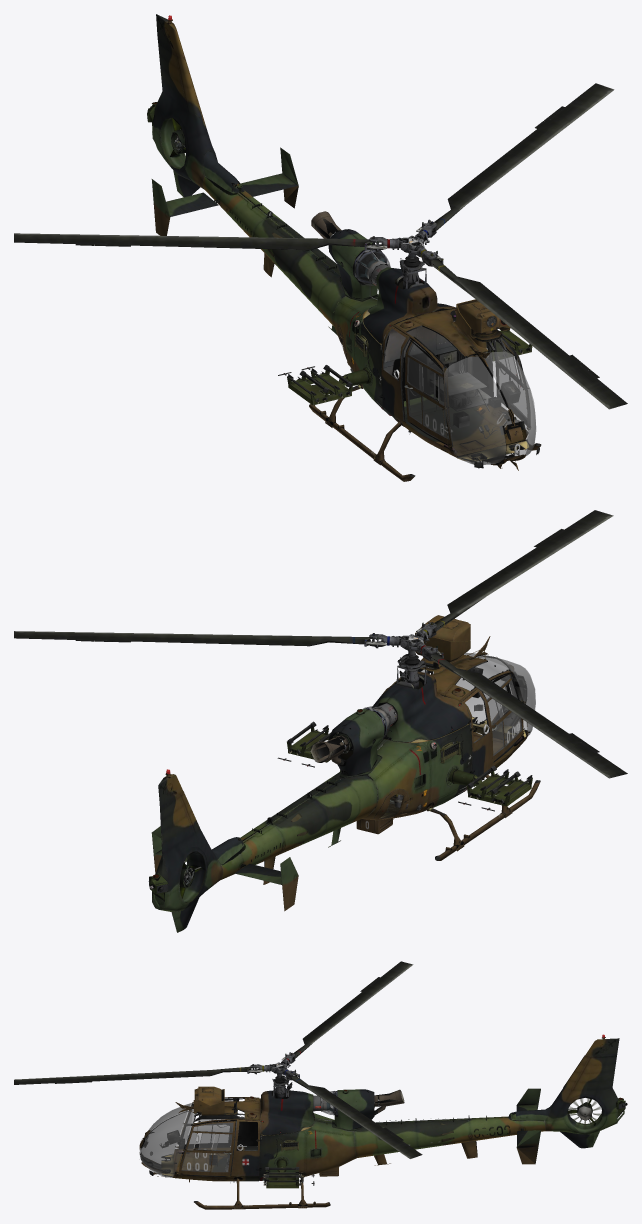
File: gazelle.glb
3 views of the same model, one above another, from view 1: azimuth 30°, elevation 25°; view 2: azimuth 150°, elevation 25°; view 3: azimuth 270°, elevation 25° (orthographic). The views are drawn at different scales.
Visible parts, largest first — view 1: Object_87, Object_38, Object_55, Object_25, Object_94, Object_20, Object_23, Object_58, Object_72, Object_97, Object_10, Object_33 (+6 smaller); view 2: Object_87, Object_38, Object_25, Object_23, Object_55, Object_20, Object_97, Object_58, Object_94, Object_67, Object_82, Object_84 (+4 smaller); view 3: Object_87, Object_38, Object_55, Object_23, Object_25, Object_20, Object_94, Object_58, Object_33, Object_98, Object_44, Object_43 (+4 smaller).
Part boxes in pixels (x1=…): Object_87: x1=152, y1=14, x2=345, y2=335; Object_38: x1=14, y1=83, x2=627, y2=409; Object_55: x1=407, y1=317, x2=536, y2=464; Object_25: x1=311, y1=211, x2=456, y2=350; Object_94: x1=150, y1=106, x2=528, y2=465; Object_20: x1=309, y1=310, x2=541, y2=481; Object_23: x1=332, y1=277, x2=444, y2=415; Object_58: x1=151, y1=118, x2=336, y2=270; Object_72: x1=381, y1=309, x2=471, y2=453; Object_97: x1=278, y1=329, x2=532, y2=405; Object_10: x1=429, y1=350, x2=491, y2=411; Object_33: x1=404, y1=336, x2=530, y2=447; Object_87: x1=152, y1=771, x2=377, y2=932; Object_38: x1=14, y1=510, x2=627, y2=778; Object_25: x1=310, y1=671, x2=471, y2=775; Object_23: x1=340, y1=723, x2=472, y2=834; Object_55: x1=421, y1=652, x2=535, y2=755; Object_20: x1=390, y1=670, x2=540, y2=860; Object_97: x1=277, y1=721, x2=532, y2=811; Object_58: x1=151, y1=780, x2=336, y2=911; Object_94: x1=151, y1=656, x2=528, y2=888; Object_67: x1=415, y1=632, x2=471, y2=673; Object_82: x1=365, y1=622, x2=436, y2=649; Object_84: x1=462, y1=656, x2=526, y2=739; Object_87: x1=353, y1=1037, x2=624, y2=1165; Object_38: x1=14, y1=961, x2=422, y2=1158; Object_55: x1=140, y1=1099, x2=233, y2=1177; Object_23: x1=259, y1=1113, x2=363, y2=1180; Object_25: x1=260, y1=1089, x2=404, y2=1139; Object_20: x1=178, y1=1096, x2=330, y2=1209; Object_94: x1=139, y1=1097, x2=626, y2=1181; Object_58: x1=386, y1=1088, x2=595, y2=1164; Object_33: x1=178, y1=1098, x2=236, y2=1176; Object_98: x1=263, y1=1158, x2=299, y2=1188; Object_44: x1=142, y1=1113, x2=265, y2=1177; Object_43: x1=193, y1=1086, x2=221, y2=1111.
Size of the model in its own units: 9.24 by 3.36 by 12.13.
Materials: 37 (34 with a texture image).
